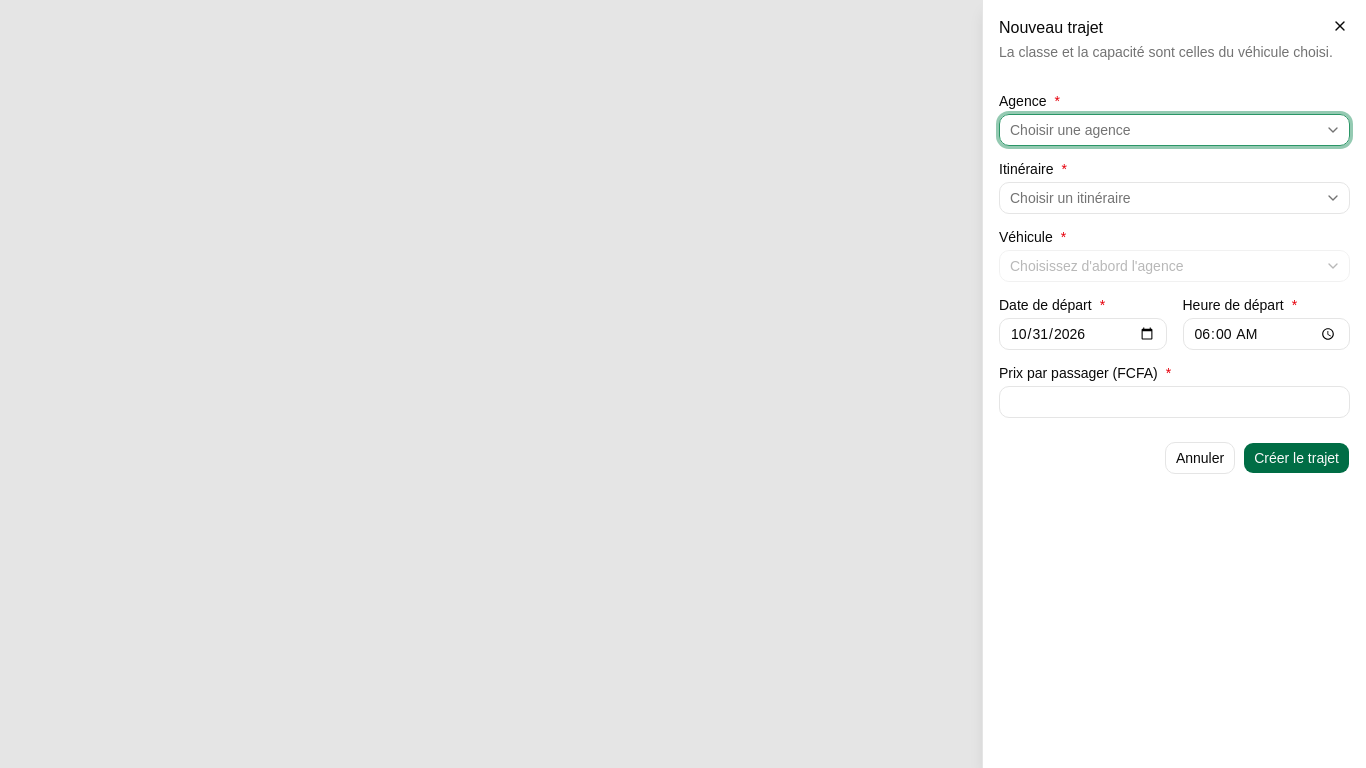
Scenario: TripFormSheet — choix du véhicule › explains how to proceed when the chosen agency has no vehicle in service
Expected: the dropdown named "Véhicule" is disabled, x1=999 y1=250 x2=1350 y2=282
Click the dropdown labelled "Choisir une agence" at (1070, 130), box x1=999 y1=114 x2=1350 y2=146
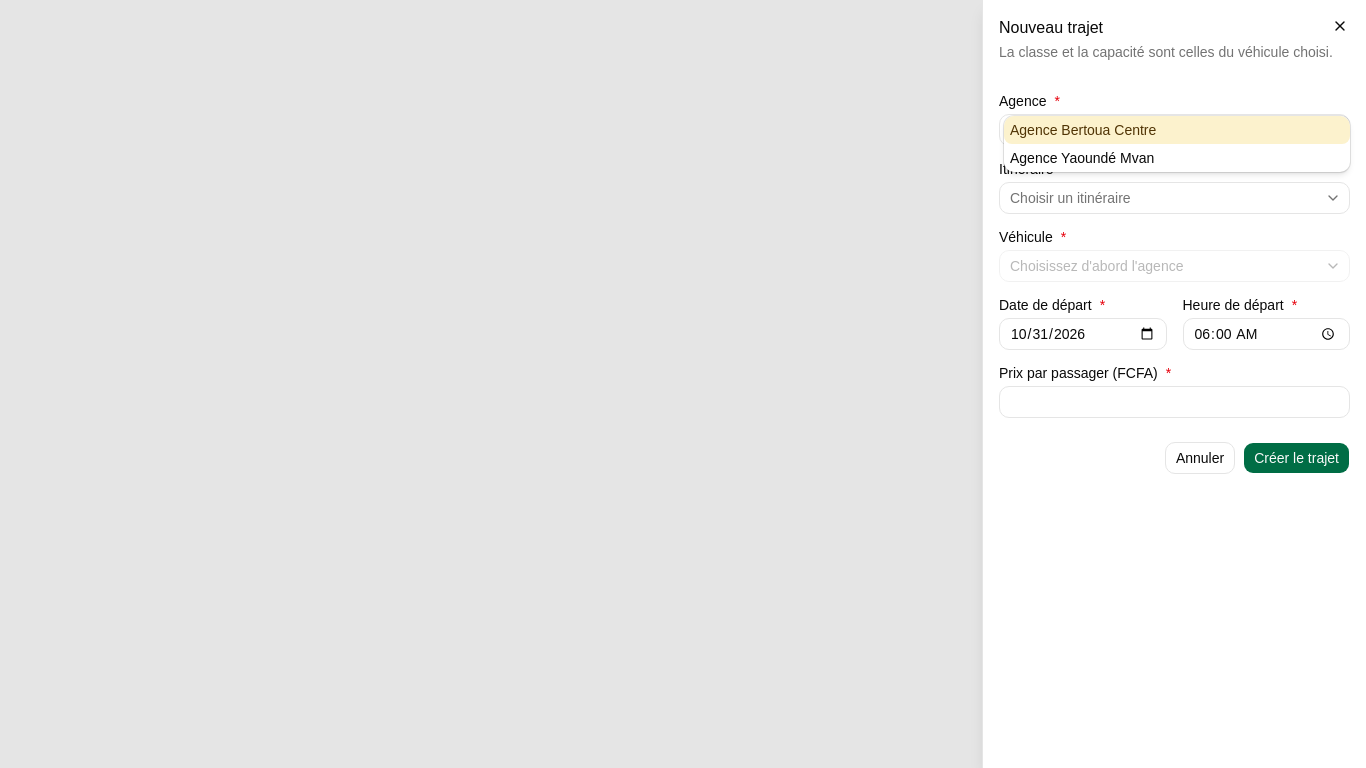
Click the option "Agence Yaoundé Mvan" at (1082, 158), box x1=1010 y1=150 x2=1154 y2=166
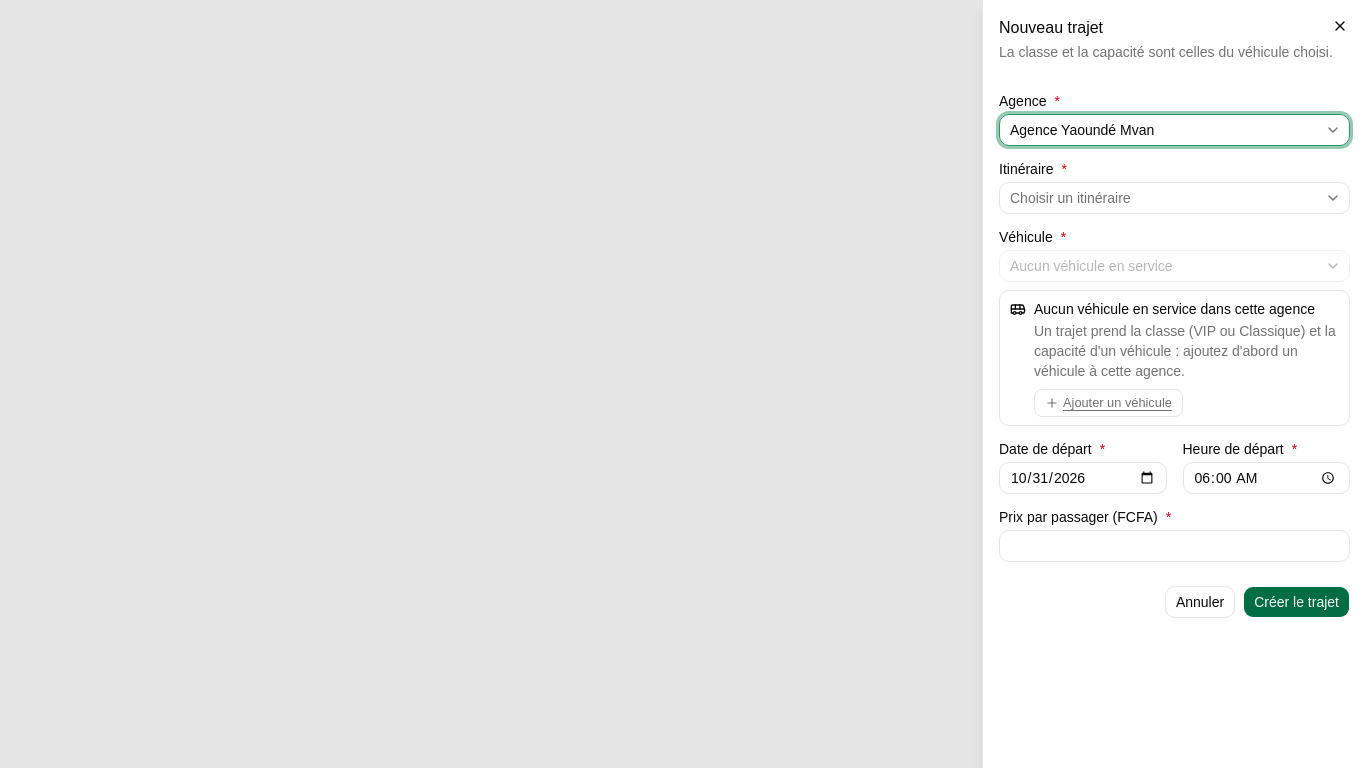
Expected: the dropdown labelled "Aucun véhicule en service" is disabled, x1=999 y1=250 x2=1350 y2=282
Result: the text "Aucun véhicule en service dans cette agence" is shown at x1=1034 y1=299 x2=1339 y2=319
